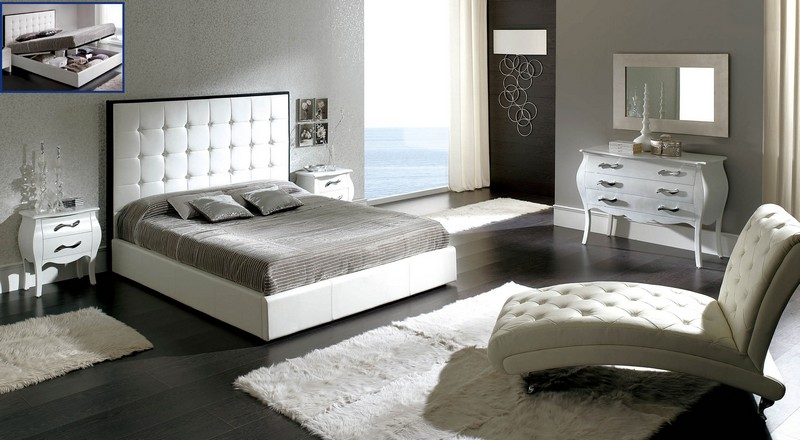bed: (108, 103, 458, 332)
sofa: (489, 202, 799, 416)
stool: (577, 142, 726, 275), (16, 205, 102, 300), (294, 167, 357, 206)
